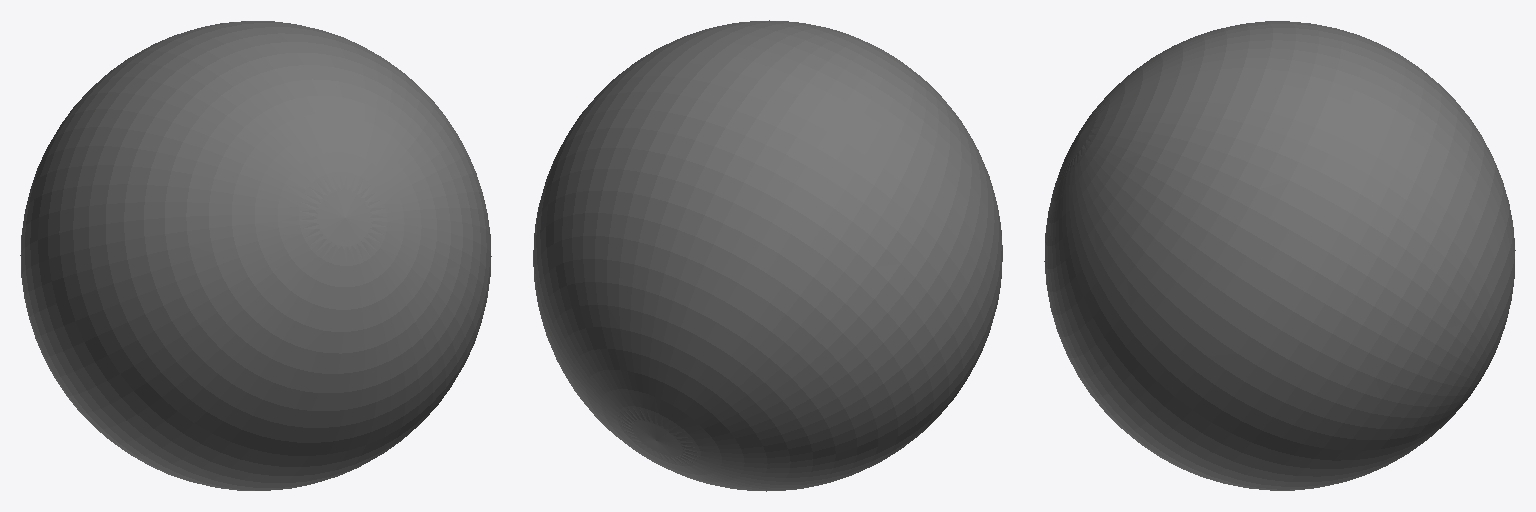
URDF robot description (2_ball):
<?xml version="1.0"?>
<robot name="2_ball">
  <link name="base">
    <visual>
      <geometry>
        <mesh filename="2_ball.obj" scale="1 1 1"/>
      </geometry>
      <material name="gray">
        <color rgba="0.5 0.5 0.5 1.0"/>
      </material>
    </visual>
    <collision>
      <geometry>
        <mesh filename="2_ball.obj" scale="1 1 1"/>
      </geometry>
    </collision>
    <inertial>
      <mass value="1.000"/>
      <inertia
          ixx="0.001034" ixy="0.000000" ixz="0.000000"
          iyy="0.001029" iyz="0.000000"
          izz="0.001032"/>
      <origin xyz="-0.086861 -0.121758 0.833091" rpy="0 0 0"/>
    </inertial>
  </link>
</robot>

--- Render facts (derived) ---
Views: 3 orthographic renders of the robot side by side, from view 1: azimuth 30°, elevation 25°; view 2: azimuth 150°, elevation 25°; view 3: azimuth 270°, elevation 25°.
Model 2_ball with 1 links and 0 joints (none), rooted at base, posed all joints at 0.
Visible links, largest first — view 1: base; view 2: base; view 3: base.
Link boxes in pixels (x1=…): base: x1=20, y1=21, x2=491, y2=490; base: x1=533, y1=20, x2=1002, y2=491; base: x1=1044, y1=21, x2=1515, y2=490.
Size in the robot's own frame: 0.0785 by 0.0789 by 0.0787 metres.
Meshes: 1 distinct files referenced, 1 mesh visuals loaded (1 OBJ).
